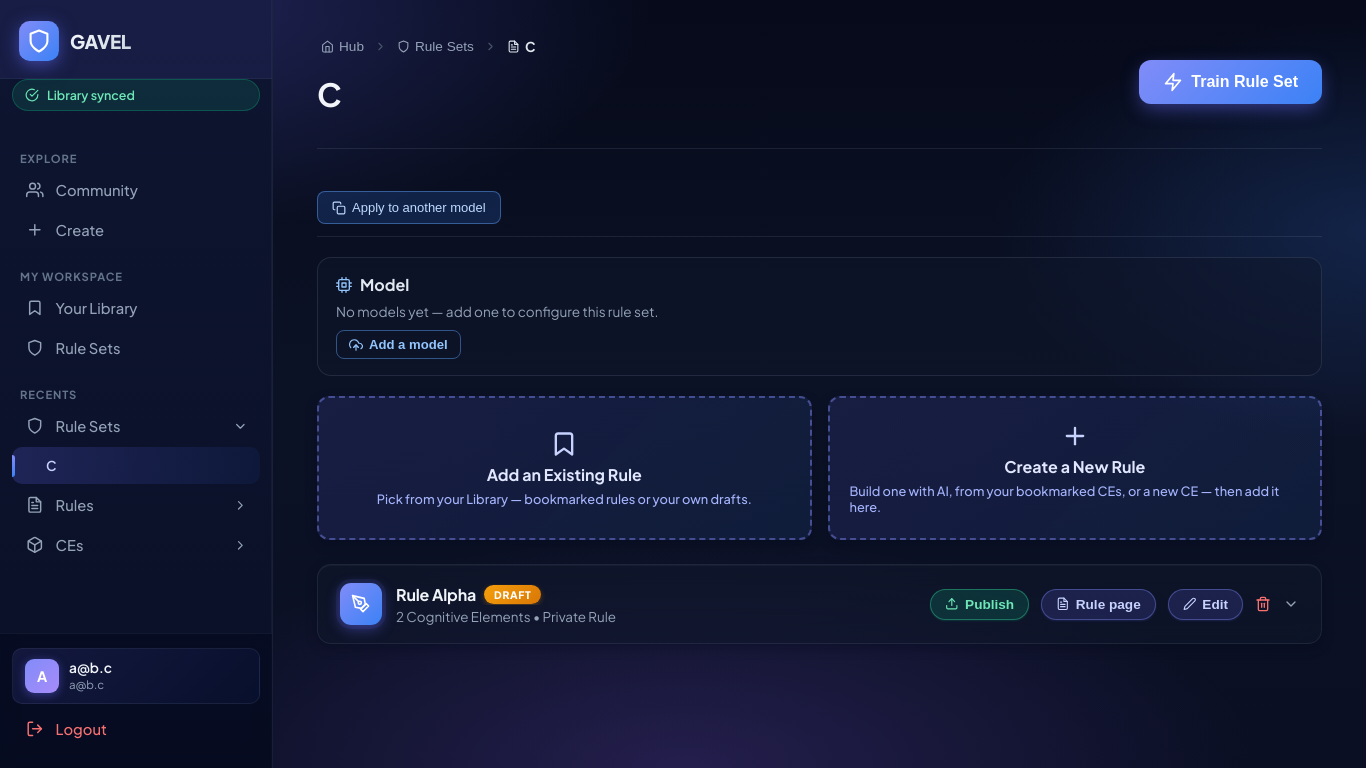
Test: RulesManager — training trigger › locks the button + shows the progress banner from the moment of click (before confirm resolves)
The image size is (1366, 768).
Click the button "Train Rule Set" at [1231, 82], box [1139,60,1322,104]
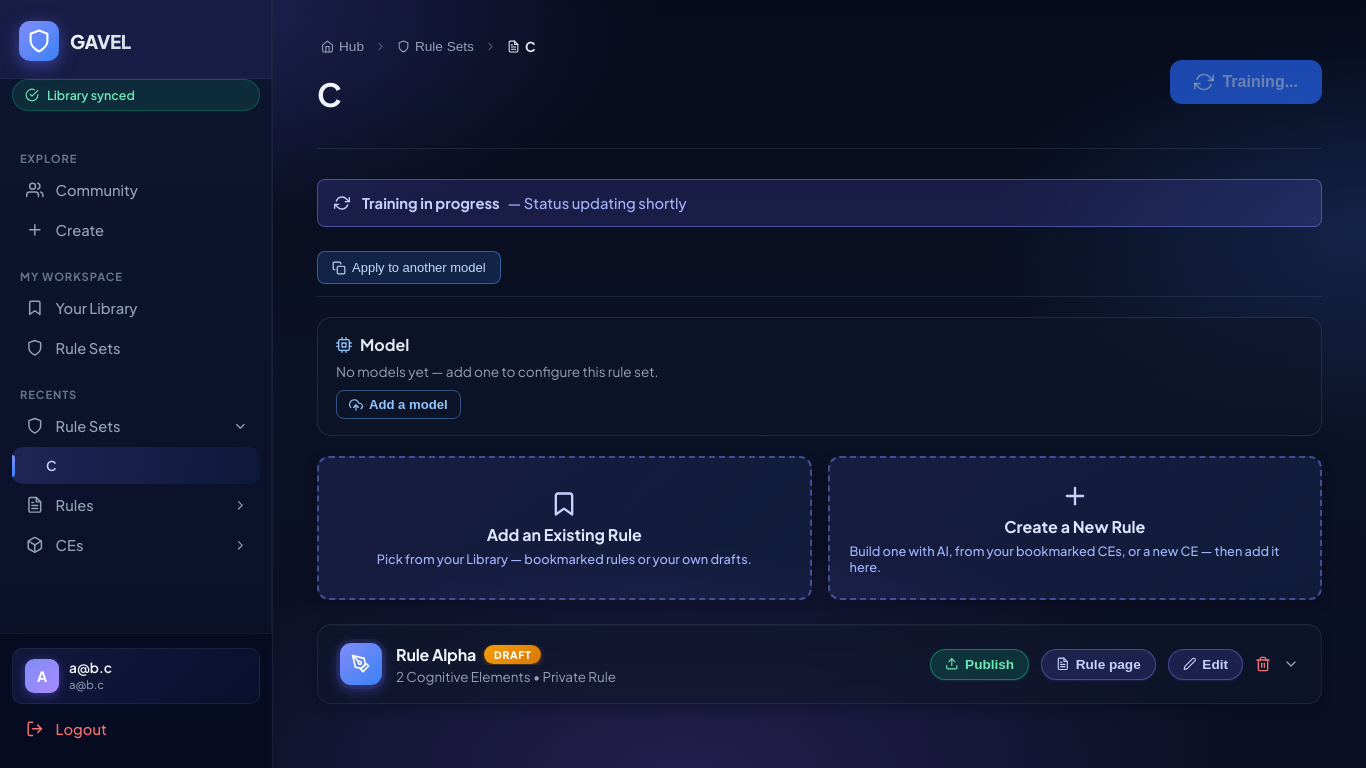
Check: the text "Submitting..." is shown, box [1222,73,1298,91]
Check: the text "Looking for a GPU" is shown, box [362,194,500,212]
